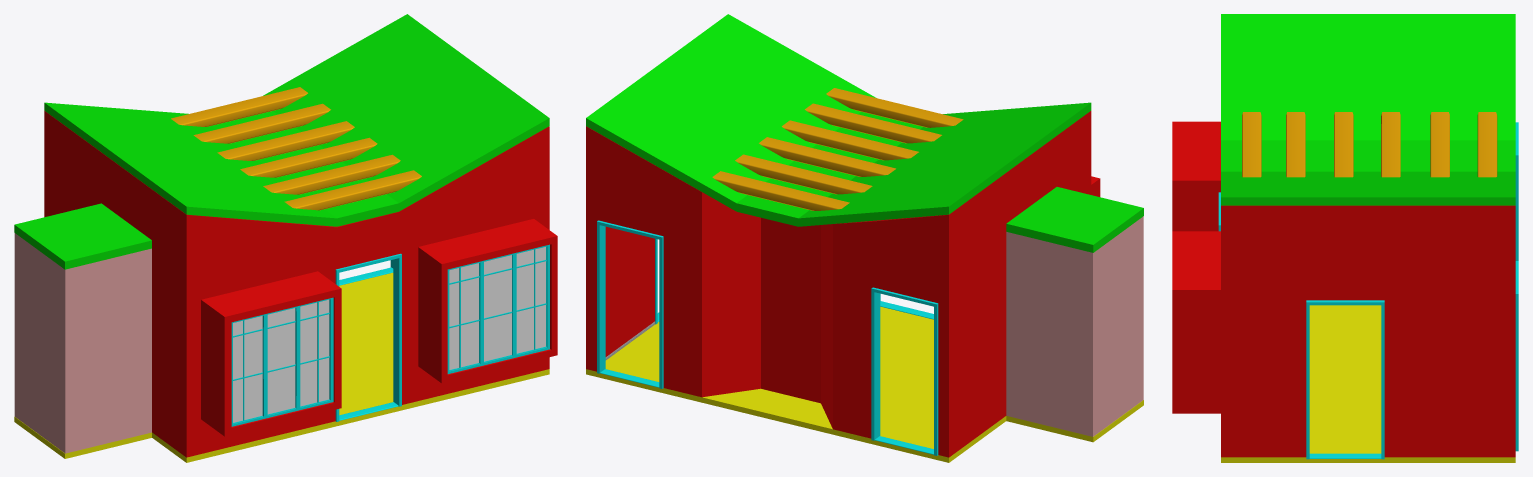
File: FloorPlan520_physics.fbx
3 views of the same model, side by side, from view 1: azimuth 30°, elevation 25°; view 2: azimuth 150°, elevation 25°; view 3: azimuth 270°, elevation 25° (orthographic). The views are drawn at different scales.
Visible parts, largest first — view 1: FP520:Walls_1, FP520:Ceiling_1, FP520:Walls_2, FP520:Floor_1, WindowPane_1, FP520:WindowPane_2, FP520:Ceiling_2, FP520:WindowFrame_1, FP520:WindowFrame_2, FP520:Beam_2, FP520:Beam_1, FP520:Beam_5 (+5 smaller); view 2: FP520:Walls_1, FP520:Ceiling_1, FP520:Walls_2, FP520:Floor_1, FP520:Ceiling_2, FP520:DoorFrame_12, FP520:DoorFrame_4, FP520:Beam_5, FP520:Beam_1, FP520:Beam_3, FP520:Beam_2, FP520:Beam_6 (+2 smaller); view 3: FP520:Walls_1, FP520:Ceiling_1, FP520:Floor_1, FP520:DoorFrame_5, FP520:Beam_6, FP520:Beam_5, FP520:Beam_3, FP520:Beam_4, FP520:Beam_2, FP520:Beam_1, FP520:DoorFrame_4, FP520:DoorFrame_12 (+1 smaller).
Part boxes in pixels (x1=…): FP520:Walls_1: x1=44, y1=111, x2=557, y2=457; FP520:Ceiling_1: x1=44, y1=14, x2=549, y2=226; FP520:Walls_2: x1=14, y1=233, x2=151, y2=453; FP520:Floor_1: x1=152, y1=272, x2=549, y2=462; WindowPane_1: x1=233, y1=299, x2=329, y2=422; FP520:WindowPane_2: x1=449, y1=247, x2=545, y2=369; FP520:Ceiling_2: x1=14, y1=203, x2=151, y2=269; FP520:WindowFrame_1: x1=231, y1=297, x2=333, y2=426; FP520:WindowFrame_2: x1=447, y1=244, x2=549, y2=373; FP520:Beam_2: x1=263, y1=154, x2=400, y2=194; FP520:Beam_1: x1=284, y1=170, x2=421, y2=210; FP520:Beam_5: x1=193, y1=103, x2=330, y2=143; FP520:Walls_1: x1=586, y1=111, x2=1100, y2=457; FP520:Ceiling_1: x1=586, y1=14, x2=1091, y2=226; FP520:Walls_2: x1=1006, y1=216, x2=1143, y2=436; FP520:Floor_1: x1=586, y1=306, x2=1006, y2=462; FP520:Ceiling_2: x1=1006, y1=187, x2=1143, y2=252; FP520:DoorFrame_12: x1=871, y1=287, x2=938, y2=455; FP520:DoorFrame_4: x1=597, y1=220, x2=663, y2=388; FP520:Beam_5: x1=735, y1=154, x2=872, y2=194; FP520:Beam_1: x1=826, y1=88, x2=963, y2=127; FP520:Beam_3: x1=782, y1=120, x2=918, y2=160; FP520:Beam_2: x1=805, y1=103, x2=941, y2=143; FP520:Beam_6: x1=712, y1=171, x2=849, y2=210; FP520:Walls_1: x1=1172, y1=121, x2=1515, y2=457; FP520:Ceiling_1: x1=1221, y1=14, x2=1515, y2=205; FP520:Floor_1: x1=1221, y1=305, x2=1515, y2=462; FP520:DoorFrame_5: x1=1306, y1=300, x2=1384, y2=459; FP520:Beam_6: x1=1477, y1=112, x2=1497, y2=177; FP520:Beam_5: x1=1430, y1=112, x2=1449, y2=177; FP520:Beam_3: x1=1334, y1=112, x2=1353, y2=177; FP520:Beam_4: x1=1381, y1=112, x2=1400, y2=177; FP520:Beam_2: x1=1286, y1=112, x2=1305, y2=177; FP520:Beam_1: x1=1242, y1=112, x2=1261, y2=177; FP520:DoorFrame_4: x1=1515, y1=261, x2=1518, y2=451; FP520:DoorFrame_12: x1=1515, y1=122, x2=1518, y2=260.
Bounding box in the file's own units: 645 × 348 × 412.
